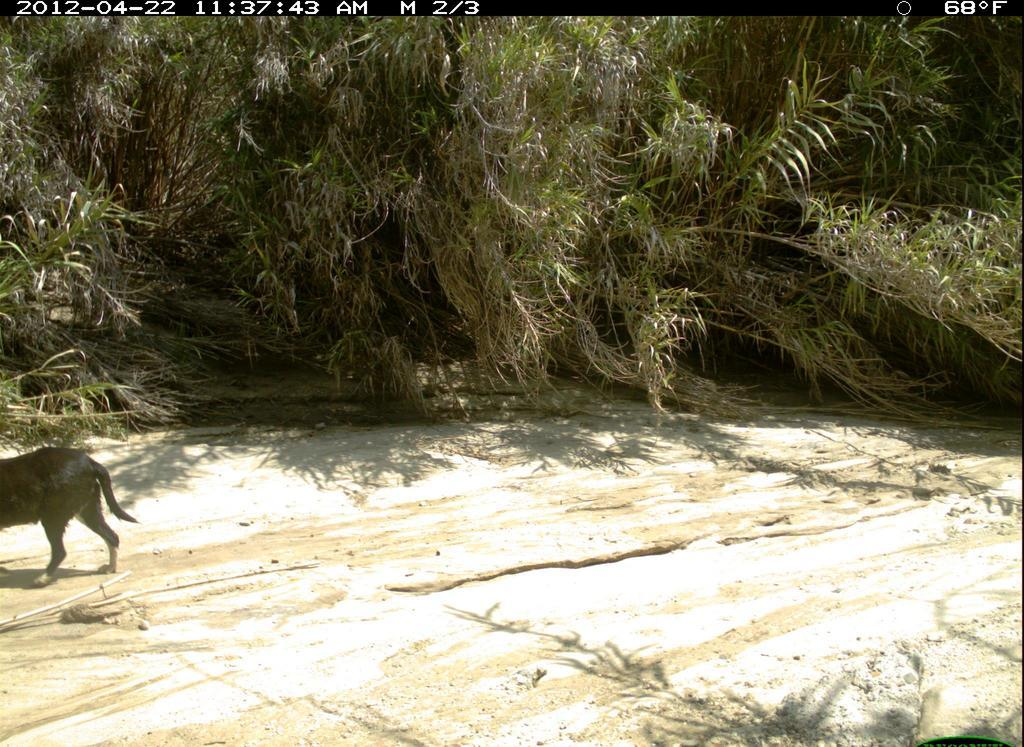dog: (1, 441, 144, 600)
